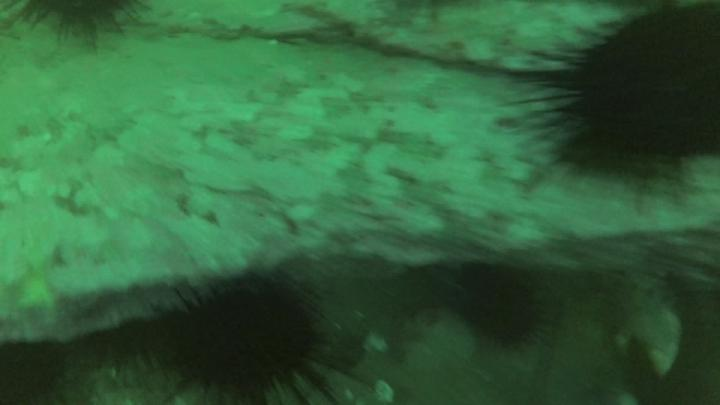echinus: (570, 1, 720, 167), (171, 288, 324, 400), (453, 268, 542, 348), (2, 342, 70, 405)
scallop: (620, 302, 686, 379)
